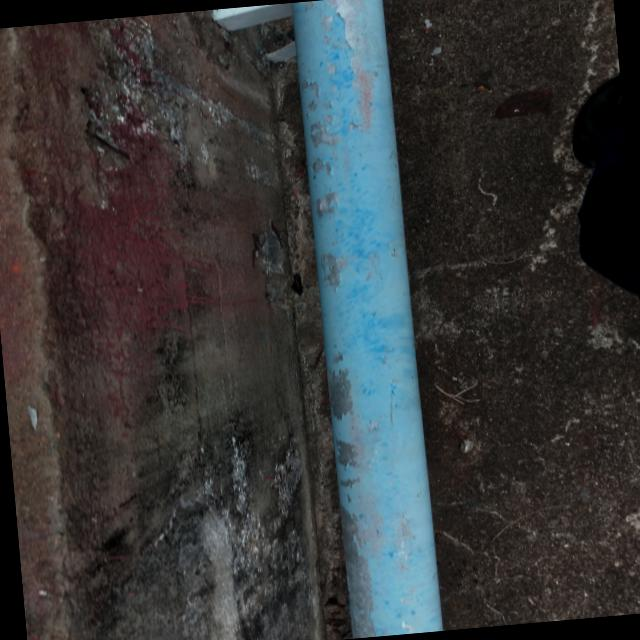gas: (286, 0, 449, 639)
